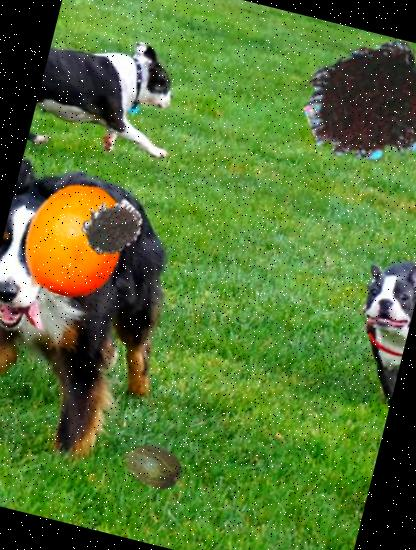Lemon: (4, 168, 146, 310)
Melon: (120, 434, 188, 502)
Rambutan: (293, 25, 416, 187), (76, 190, 148, 262)
